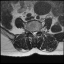CCS_stenosis: (33, 28, 35, 37)
LFS_normal: (37, 28, 39, 33)
LLS_normal: (35, 28, 37, 36)
RFS_normal: (30, 28, 32, 35)
RLS_normal: (32, 28, 33, 36)
